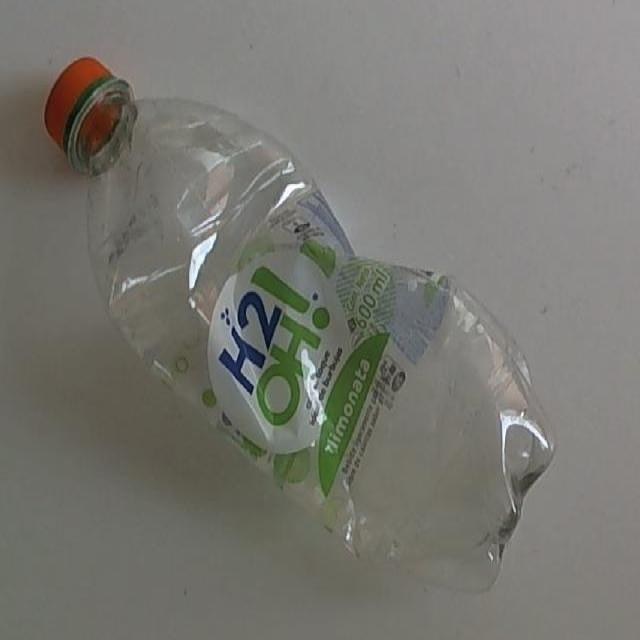defect: (41, 53, 560, 596)
